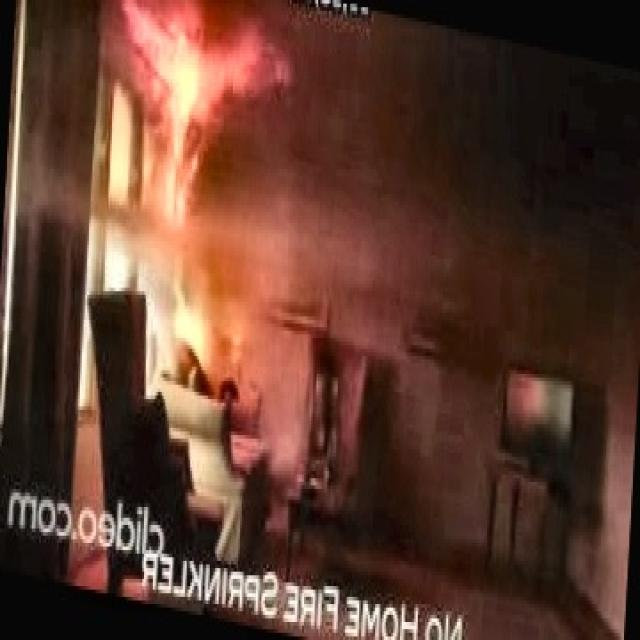fire: (116, 0, 295, 399)
